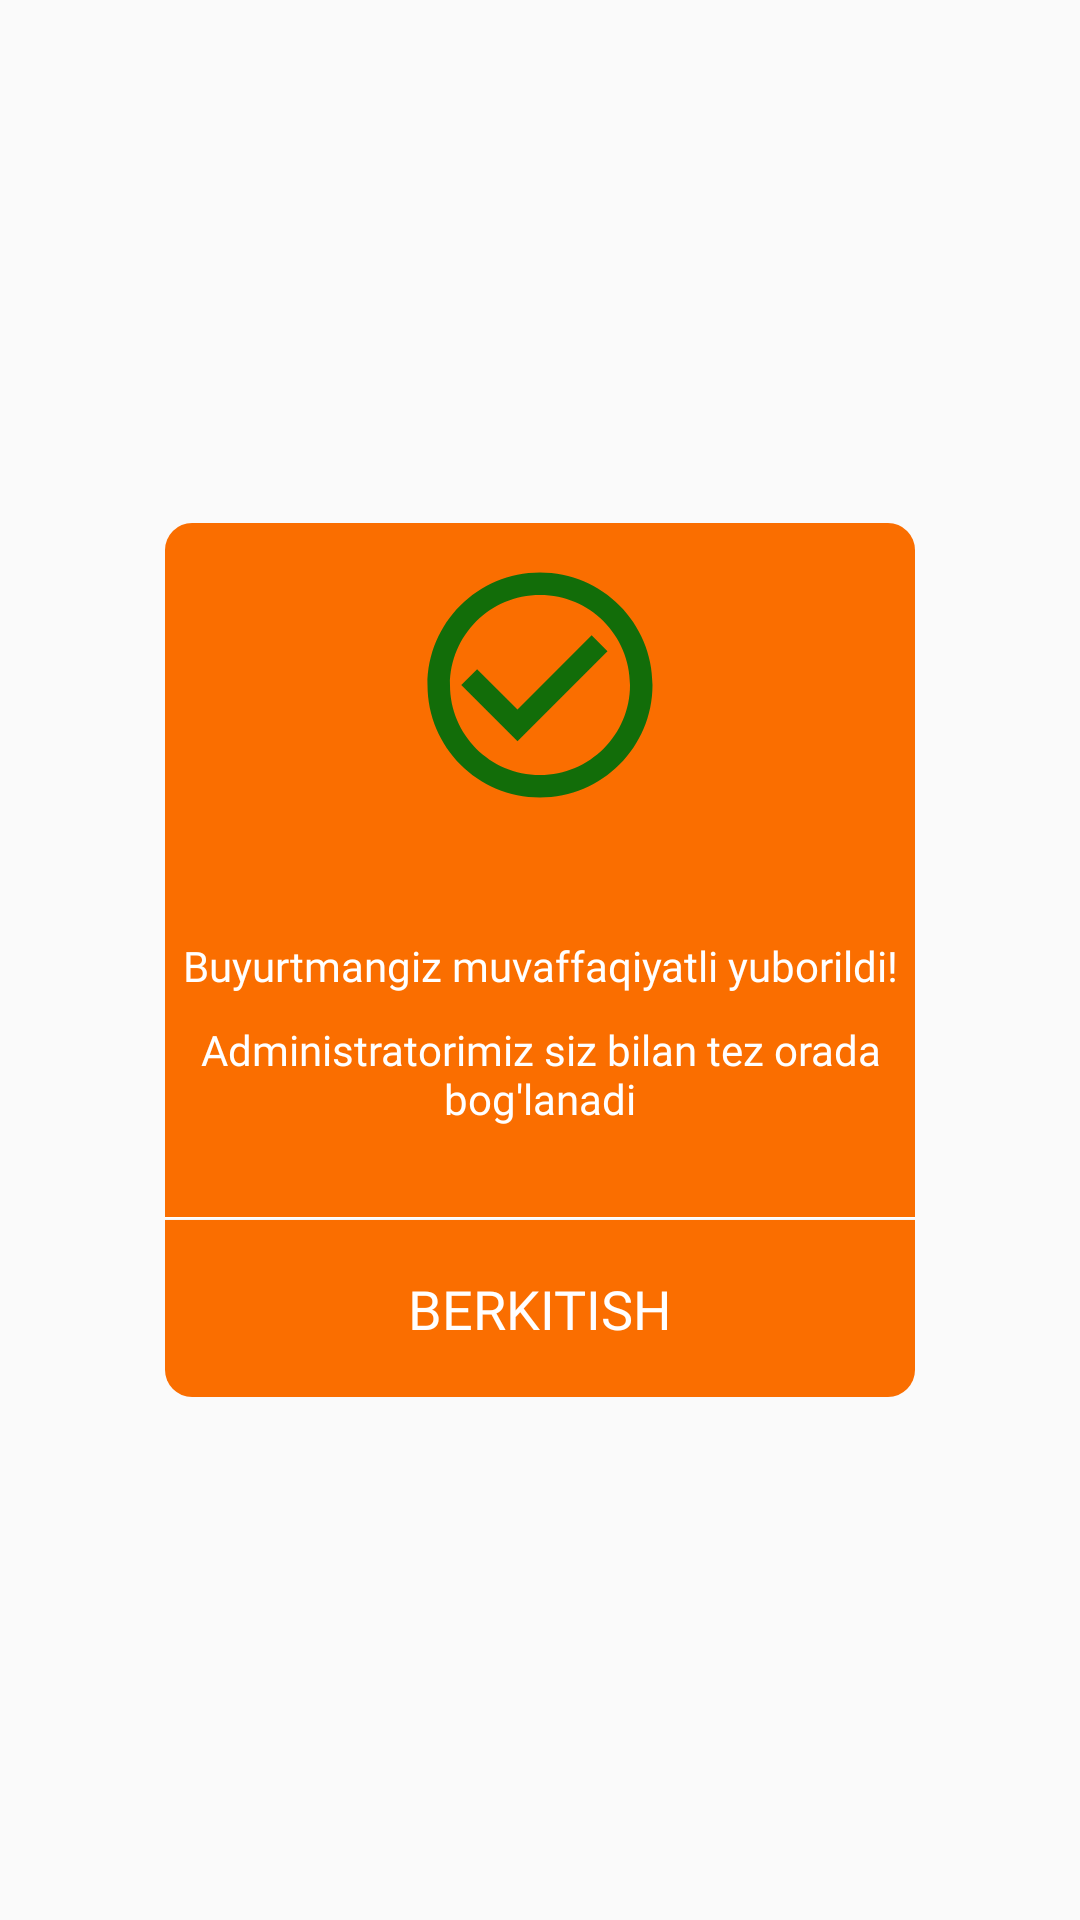

Icon click points for this 1080 x 1920 phone screenshot, format (x,y):
check: (540,685)
